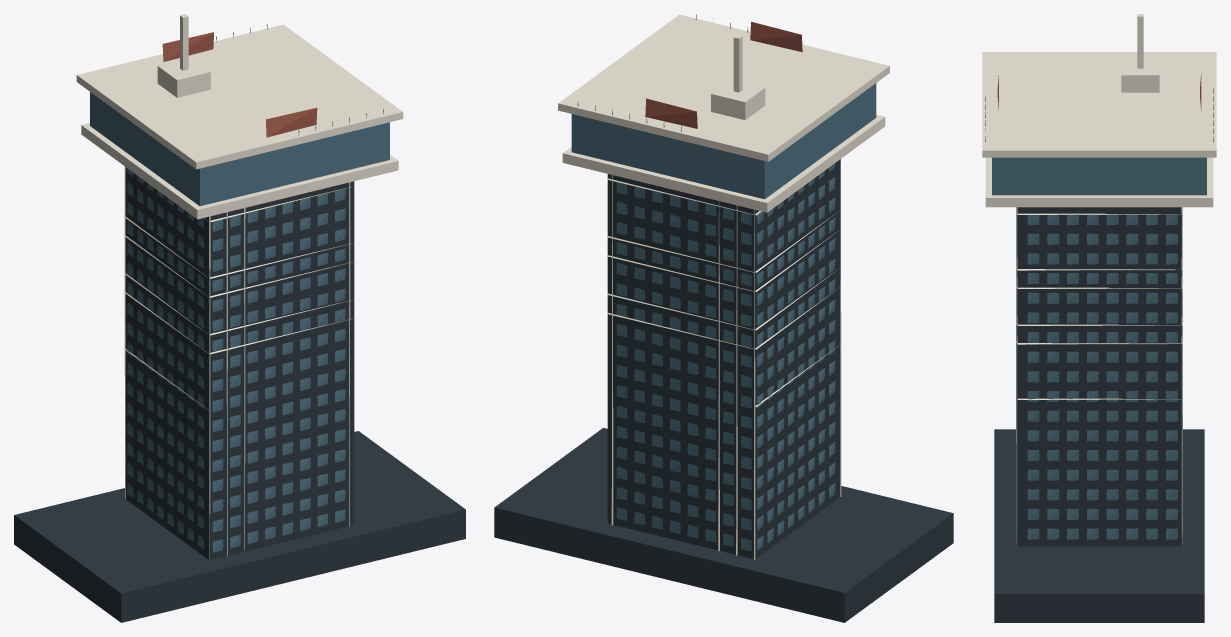
File: adam-tower.lod1.glb
3 views of the same model, side by side, from view 1: azimuth 30°, elevation 25°; view 2: azimuth 150°, elevation 25°; view 3: azimuth 270°, elevation 25° (orthographic). The views are drawn at different scales.
Parts seen in each view (by area): view 1: adam-tower; view 2: adam-tower; view 3: adam-tower.
Part boxes in pixels (x1,y1,x2,y2): adam-tower: (14, 14, 465, 622); adam-tower: (494, 14, 953, 622); adam-tower: (982, 14, 1216, 622).
Size of the model in its own units: 61.13 by 88 by 36.71.
